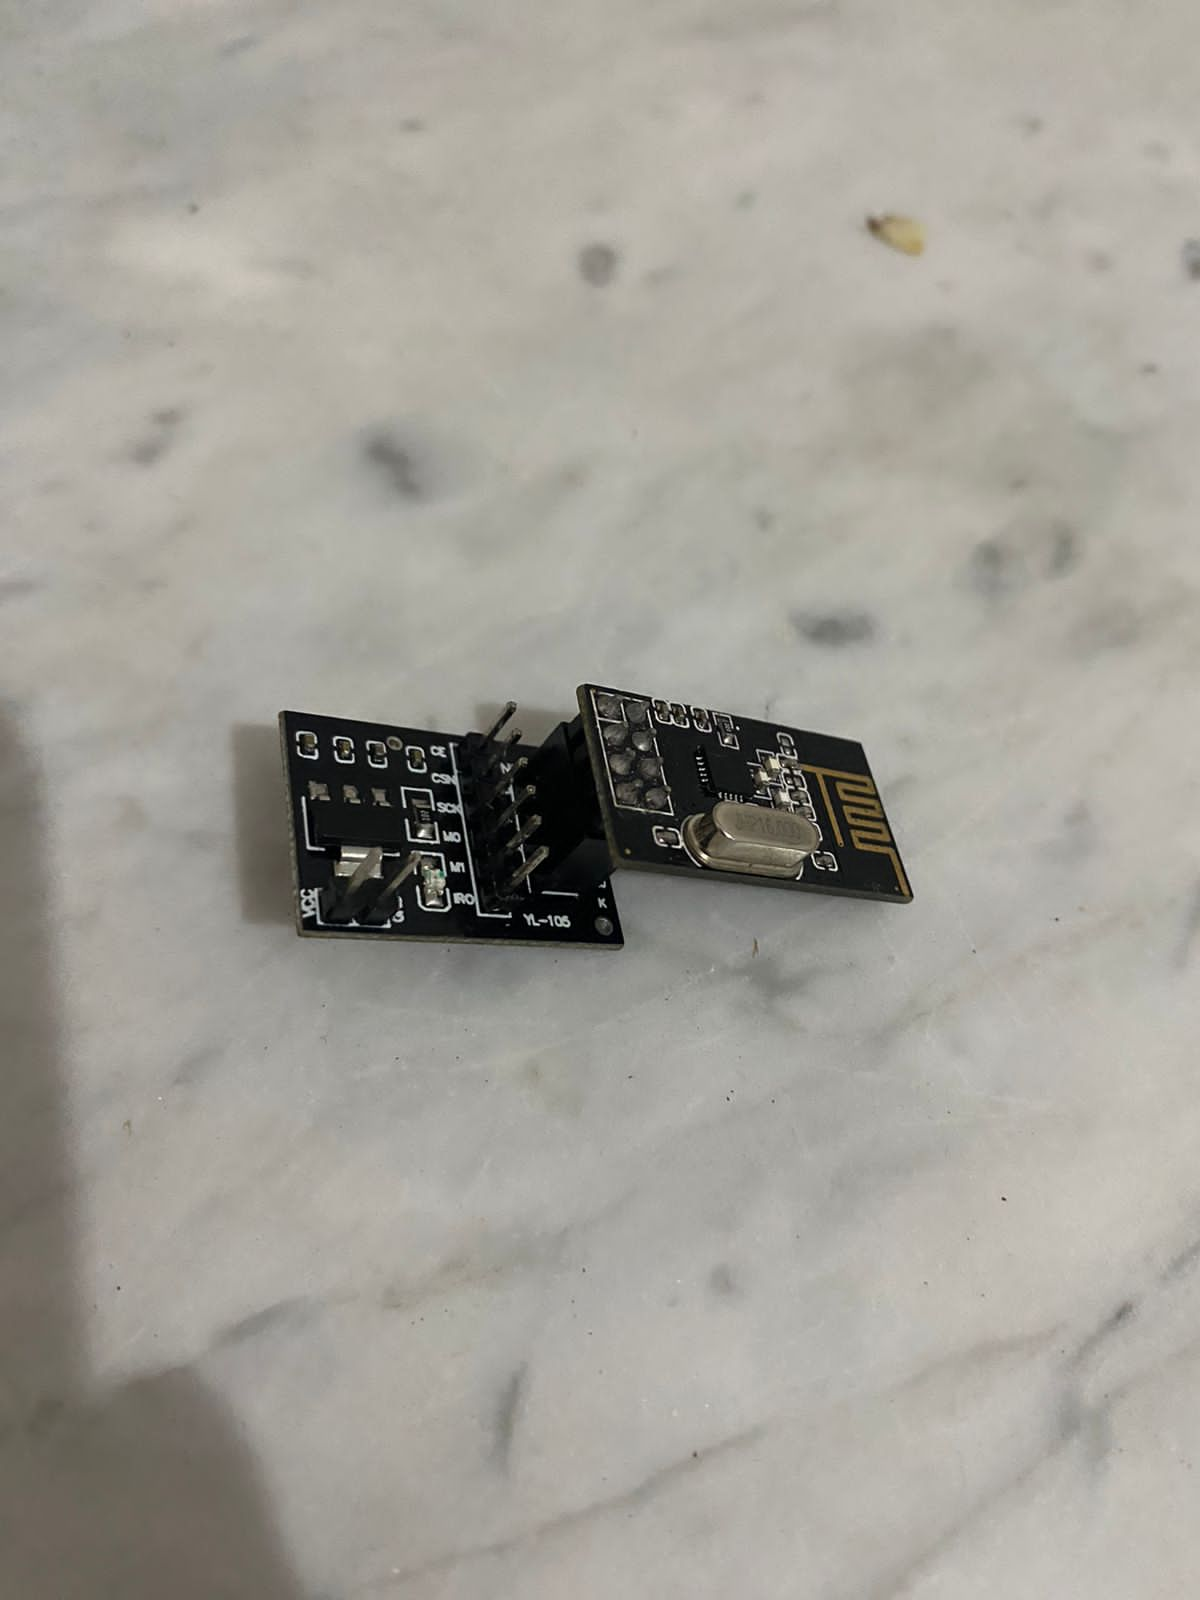RF-module: (250, 650, 926, 971)
